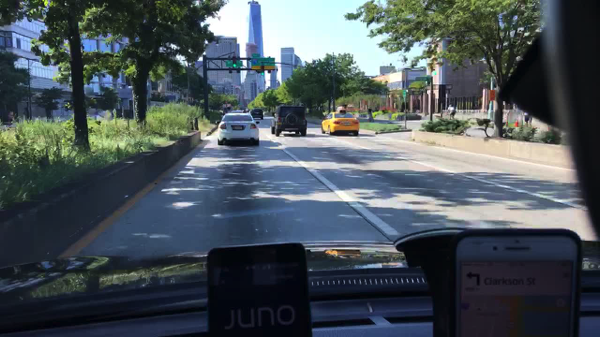car: (216, 111, 260, 144), (322, 106, 360, 136), (270, 104, 306, 135), (250, 108, 264, 119)
person: (446, 104, 454, 118)
traffic light: (232, 54, 236, 70), (260, 64, 264, 77)
traffic sign: (251, 57, 276, 70), (227, 59, 243, 68), (412, 76, 431, 83), (489, 89, 494, 101), (250, 53, 259, 57), (400, 90, 407, 95)
